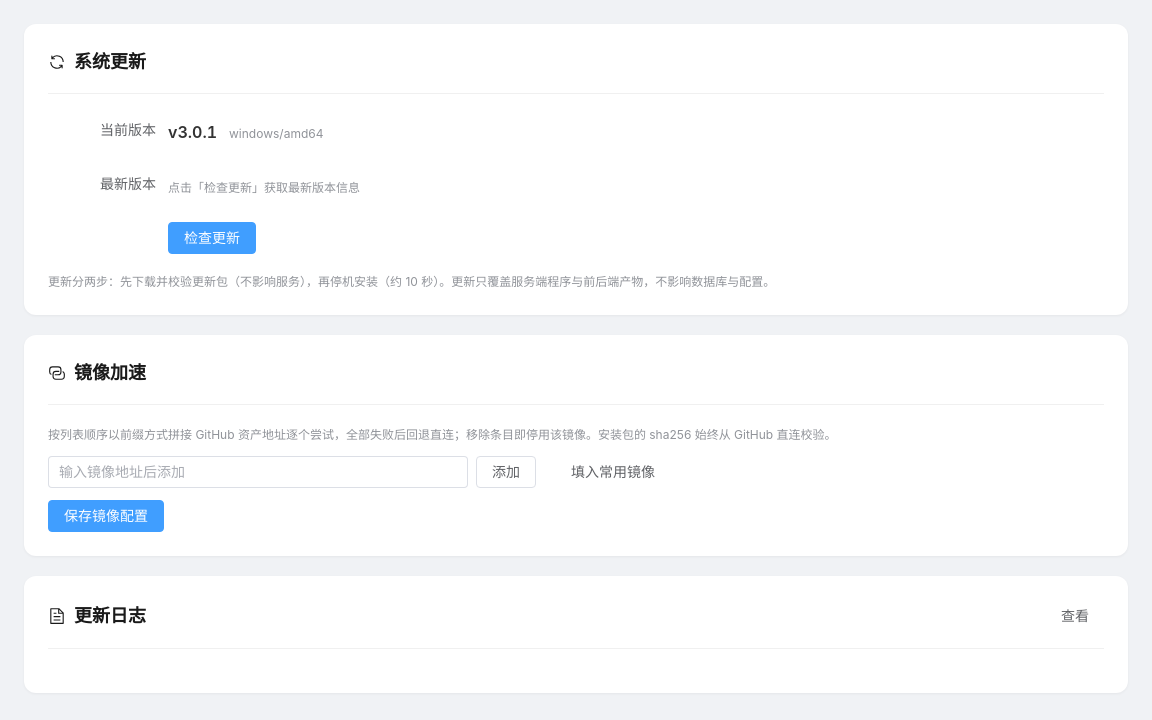
Test: UpdateManage 版本与检查更新 › 检查更新：无可热更新版本但存在更高大版本时同样提示手动下载
Step 1. Click the button "检查更新" → [212, 238], box [168,222,256,254]
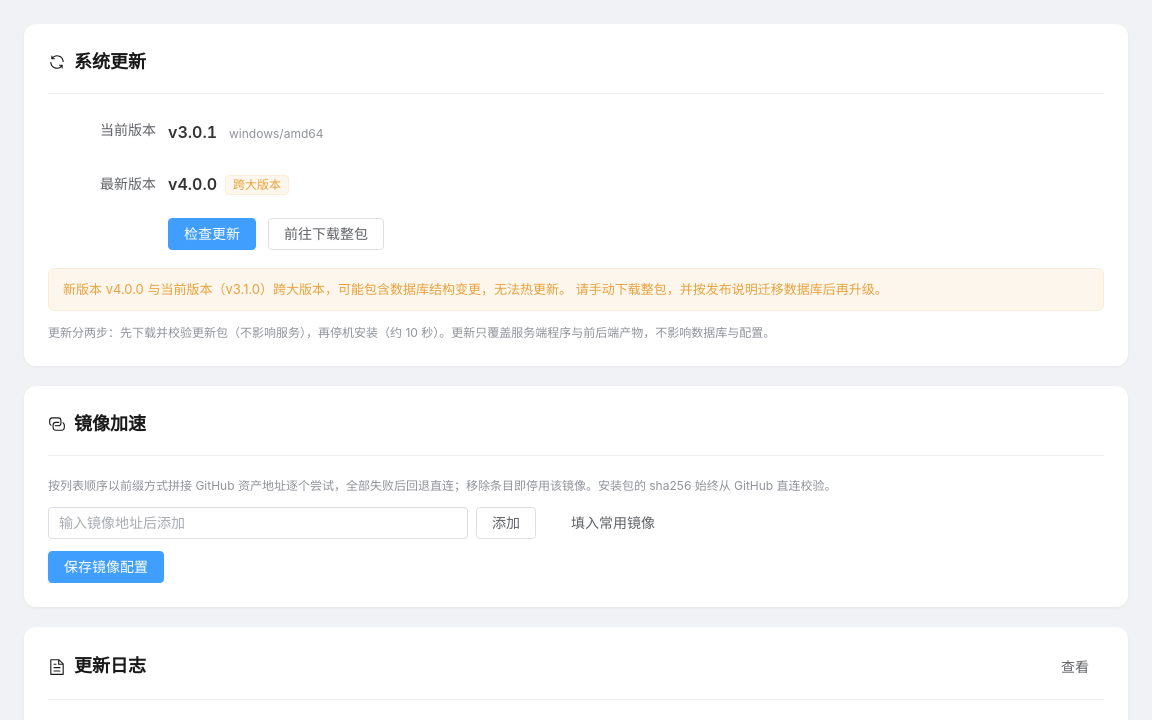
Check: the button "前往下载整包" is shown, box [268,218,384,250]
Check: the text "v4.0.0" is shown, box [168,168,217,200]
